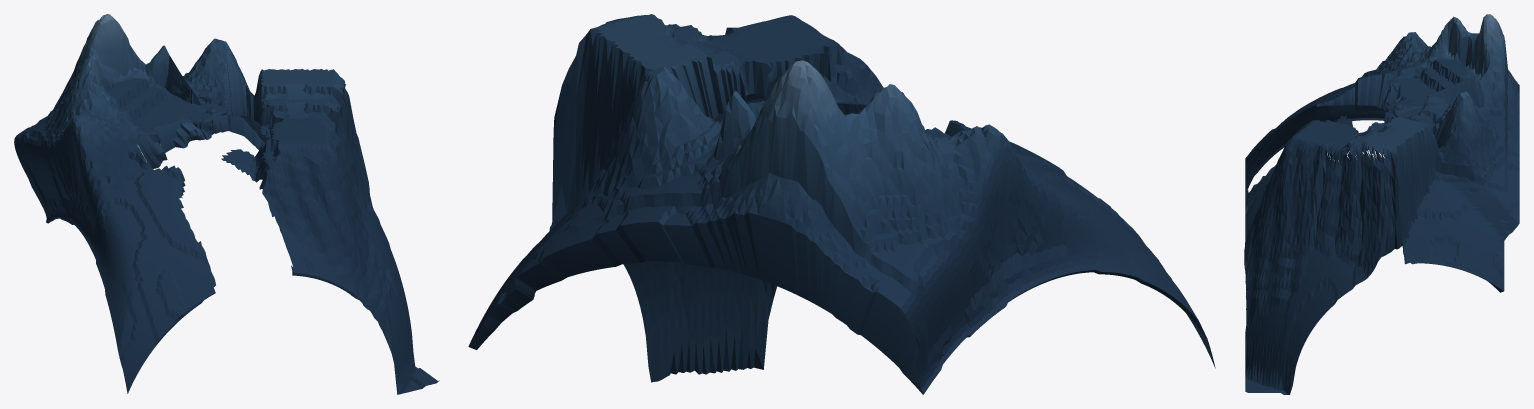
File: citadel-master-terrain-r05.glb
3 views of the same model, side by side, from view 1: azimuth 30°, elevation 25°; view 2: azimuth 150°, elevation 25°; view 3: azimuth 270°, elevation 25° (orthographic). The views are drawn at different scales.
Parts seen in each view (by area): view 1: citadel-oskar-grid-mountain-surface, citadel-coastal-cliff-seal; view 2: citadel-oskar-grid-mountain-surface, citadel-coastal-cliff-seal; view 3: citadel-oskar-grid-mountain-surface, citadel-coastal-cliff-seal.
Part boxes in pixels (x1=…): citadel-oskar-grid-mountain-surface: x1=14, y1=14, x2=439, y2=394; citadel-coastal-cliff-seal: x1=134, y1=55, x2=274, y2=197; citadel-oskar-grid-mountain-surface: x1=468, y1=14, x2=1215, y2=394; citadel-coastal-cliff-seal: x1=668, y1=56, x2=964, y2=136; citadel-oskar-grid-mountain-surface: x1=1244, y1=14, x2=1519, y2=394; citadel-coastal-cliff-seal: x1=1316, y1=73, x2=1454, y2=148.
Size of the model in its own units: 222 by 216 by 185.
